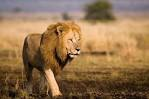lion: (18, 20, 85, 99)
